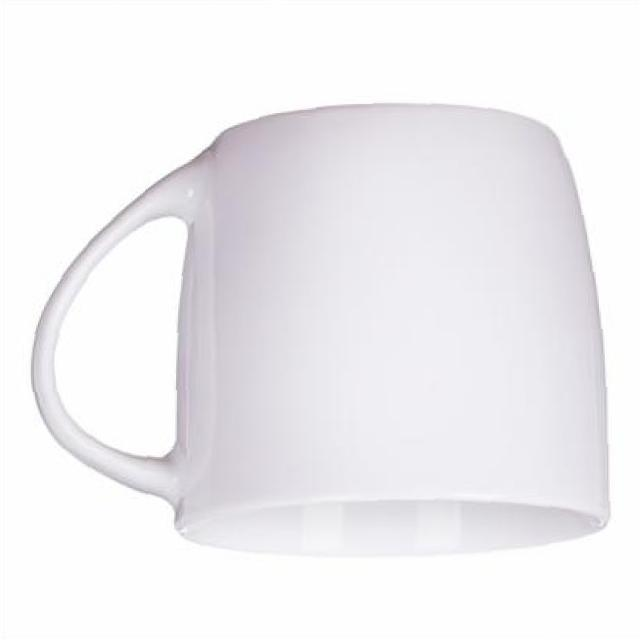cup: (21, 98, 616, 567)
